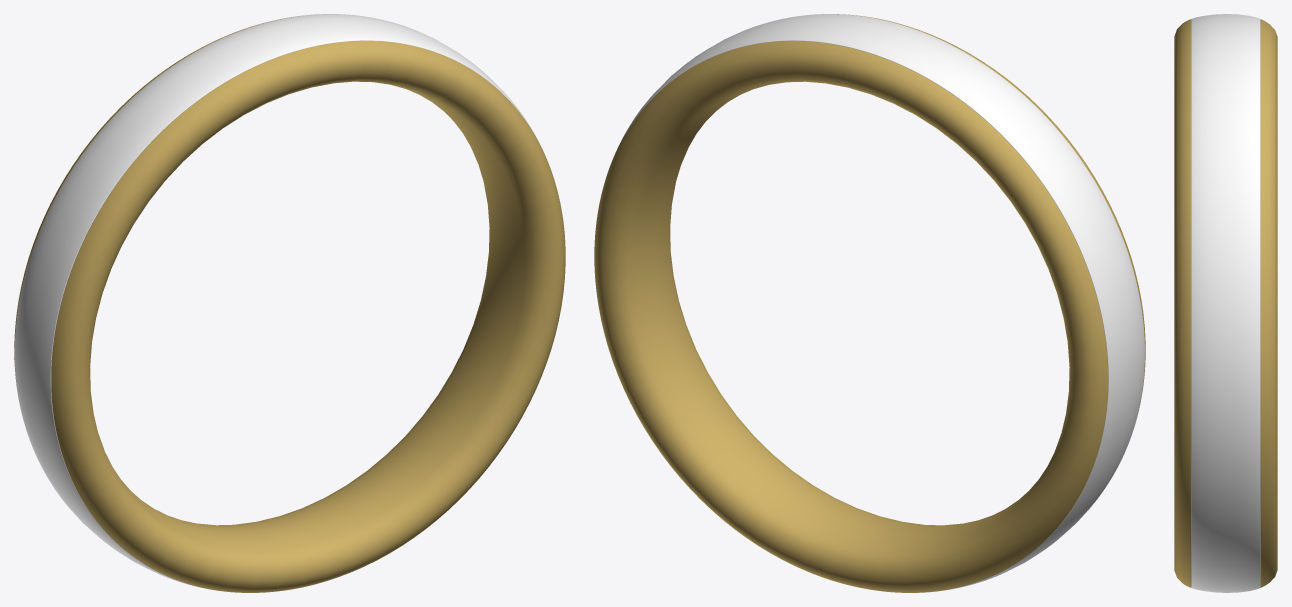
Rendered from ring_02.glb.
3 views of the same model, side by side, from view 1: azimuth 30°, elevation 25°; view 2: azimuth 150°, elevation 25°; view 3: azimuth 270°, elevation 25° (orthographic). The views are drawn at different scales.
Parts seen in each view (by area): view 1: Object_2, Object_3; view 2: Object_2, Object_3; view 3: Object_3, Object_2.
Part boxes in pixels (bbox=[...]): Object_2: bbox=[14, 15, 565, 592]; Object_3: bbox=[14, 14, 542, 591]; Object_2: bbox=[594, 14, 1145, 592]; Object_3: bbox=[612, 14, 1144, 592]; Object_3: bbox=[1191, 14, 1260, 592]; Object_2: bbox=[1174, 19, 1277, 587].
Bounding box in the file's own units: 22.29 × 22.29 × 3.99.
Materials: 2 (1 with a texture image).
